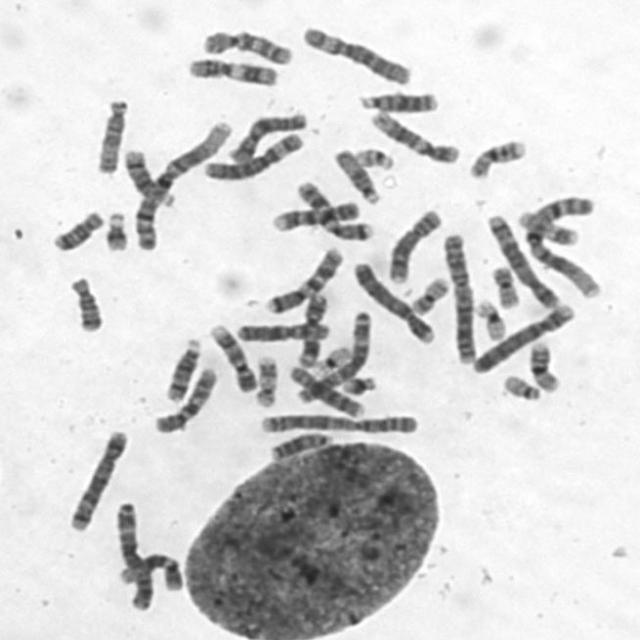A1: (128, 114, 235, 254), (516, 190, 604, 301)
A2: (437, 226, 479, 365), (252, 406, 422, 436)
A3: (290, 304, 374, 406), (108, 496, 156, 612)
B4: (467, 297, 578, 374), (347, 256, 438, 346)
B5: (482, 208, 562, 310), (62, 424, 130, 533)
C10: (148, 360, 221, 436), (196, 23, 295, 66)
C11: (182, 52, 280, 87), (292, 287, 331, 368)
C12: (365, 104, 463, 165), (112, 547, 185, 593)
C6: (295, 18, 415, 86), (198, 126, 306, 182)
C7: (259, 241, 346, 315), (291, 174, 376, 242)
C8: (382, 203, 445, 284), (284, 359, 368, 418)
C9: (204, 318, 258, 392), (267, 195, 363, 233)
D13: (352, 84, 440, 114), (265, 426, 334, 462)
D14: (117, 143, 178, 209), (159, 332, 204, 403)
D15: (328, 143, 383, 205), (90, 92, 130, 176)
E16: (463, 133, 530, 180), (524, 334, 564, 394)
E17: (513, 205, 581, 248), (249, 350, 280, 409)
E18: (46, 204, 105, 252), (62, 270, 106, 333)
F19: (470, 293, 509, 341), (308, 339, 352, 375)
F20: (404, 270, 452, 316), (486, 260, 524, 309)
G21: (100, 206, 130, 253), (336, 369, 379, 396)
G22: (498, 368, 544, 402), (349, 141, 396, 171)
X: (223, 105, 310, 165), (230, 316, 332, 344)
